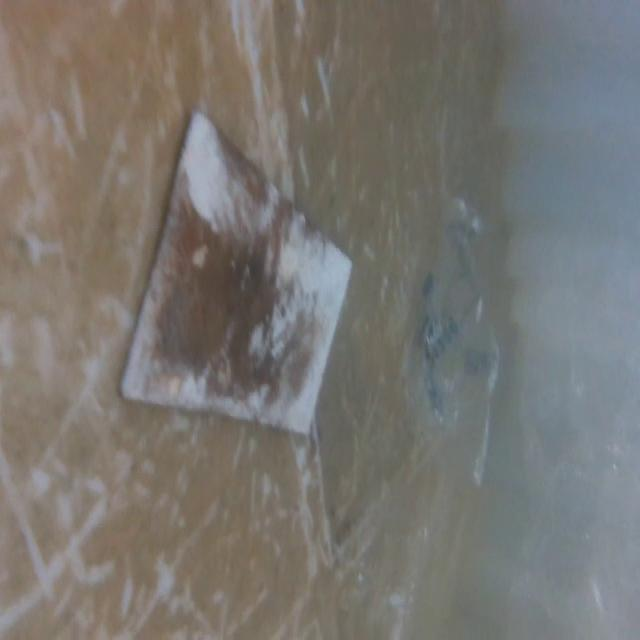metal: (114, 108, 355, 436)
plastic bags: (518, 308, 640, 624), (406, 203, 504, 490)
